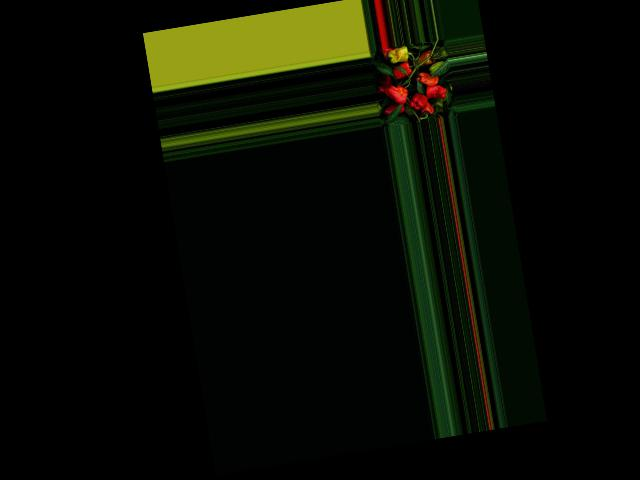bell_pepper: (423, 102, 435, 117)
